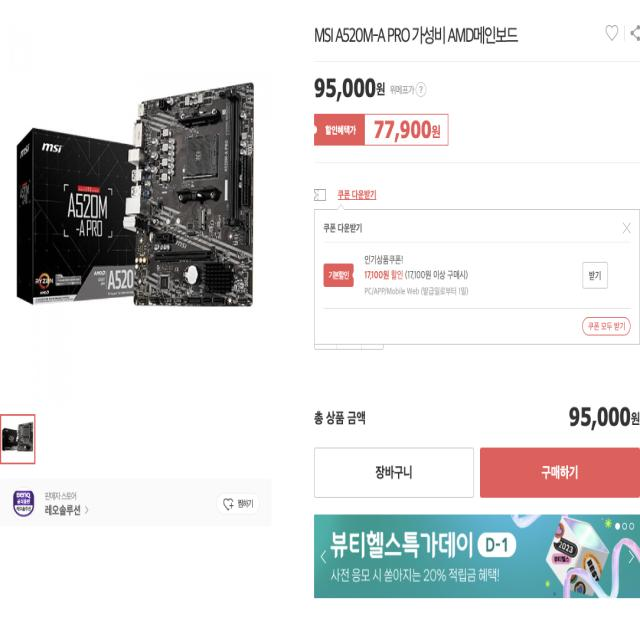product_discount_price: (366, 119, 452, 145)
product_name: (312, 16, 586, 64)
product_original_price: (306, 74, 392, 105)
